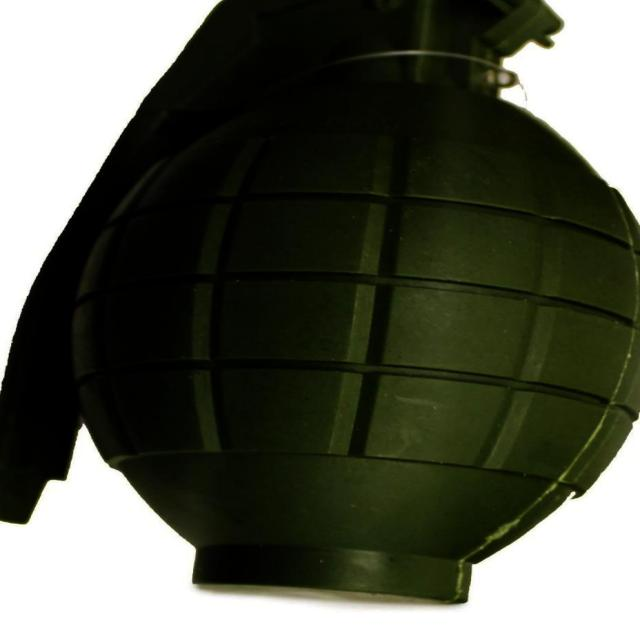grenade: (2, 1, 640, 608)
